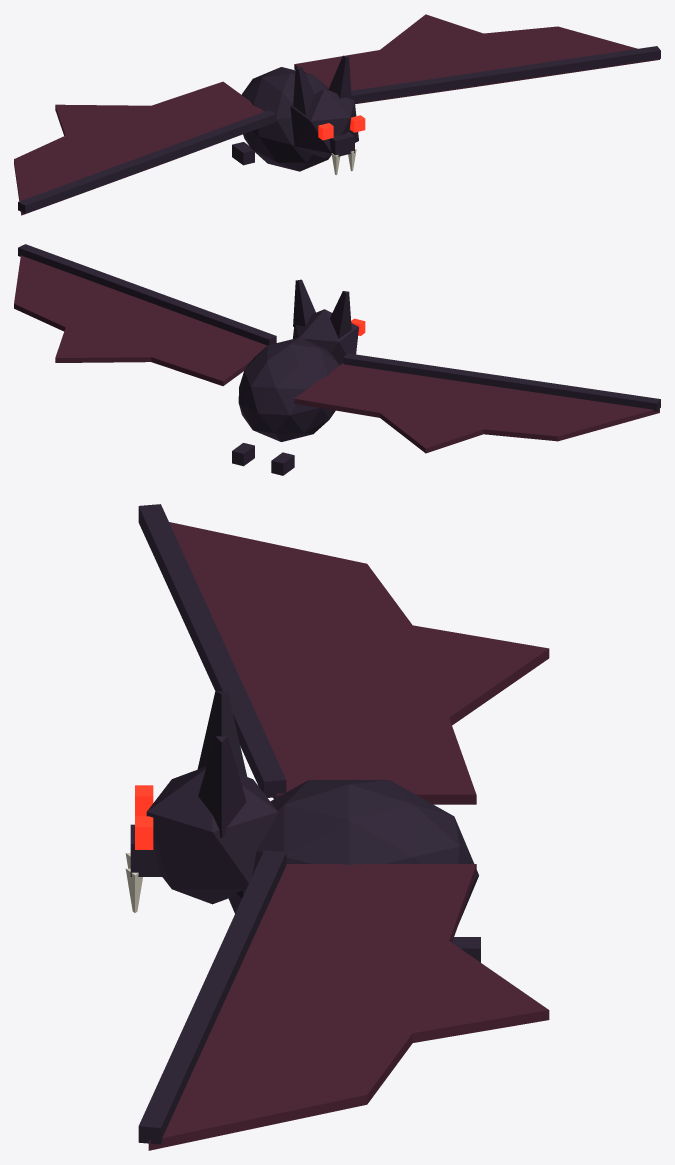
The model's file is enemy_bat.glb.
3 views of the same model, one above another, from view 1: azimuth 30°, elevation 25°; view 2: azimuth 150°, elevation 25°; view 3: azimuth 270°, elevation 25° (orthographic). The views are drawn at different scales.
Visible parts, largest first — view 1: MembraneR, MembraneL, Body, WingBoneL, WingBoneR, Head, EarR, EarL, Snout, FootR; view 2: MembraneR, MembraneL, Body, WingBoneR, WingBoneL, Head, EarL, EarR, FootR, FootL; view 3: MembraneL, MembraneR, Body, Head, WingBoneR, WingBoneL, EarL, EarR.
Boxes of the visible parts, x1=… form: MembraneR: x1=14, y1=81, x2=264, y2=215; MembraneL: x1=294, y1=14, x2=659, y2=104; Body: x1=241, y1=67, x2=330, y2=171; WingBoneL: x1=351, y1=46, x2=660, y2=103; WingBoneR: x1=18, y1=110, x2=276, y2=213; Head: x1=290, y1=88, x2=358, y2=158; EarR: x1=293, y1=67, x2=314, y2=114; EarL: x1=328, y1=55, x2=351, y2=99; Snout: x1=329, y1=132, x2=354, y2=156; FootR: x1=232, y1=142, x2=254, y2=165; MembraneR: x1=294, y1=363, x2=659, y2=453; MembraneL: x1=14, y1=255, x2=267, y2=385; Body: x1=238, y1=337, x2=339, y2=441; WingBoneR: x1=343, y1=353, x2=660, y2=411; WingBoneL: x1=18, y1=244, x2=276, y2=345; Head: x1=293, y1=309, x2=358, y2=365; EarL: x1=293, y1=279, x2=315, y2=326; EarR: x1=330, y1=291, x2=351, y2=338; FootR: x1=271, y1=452, x2=294, y2=475; FootL: x1=232, y1=443, x2=254, y2=466; MembraneL: x1=148, y1=864, x2=549, y2=1150; MembraneR: x1=169, y1=522, x2=549, y2=804; Body: x1=228, y1=780, x2=478, y2=922; Head: x1=146, y1=766, x2=278, y2=904; WingBoneR: x1=138, y1=504, x2=286, y2=797; WingBoneL: x1=138, y1=850, x2=286, y2=1144; EarL: x1=198, y1=736, x2=246, y2=838; EarR: x1=197, y1=691, x2=247, y2=776.
Size of the model in its own units: 1.62 by 0.3305 by 0.4654.
